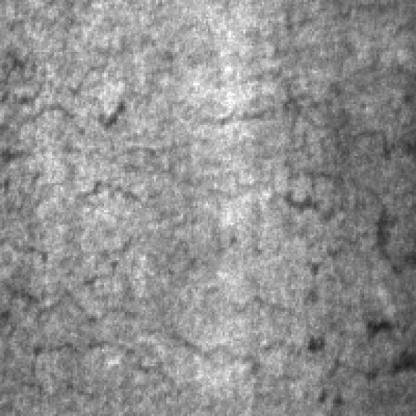crazing: (0, 35, 268, 203), (260, 58, 410, 268), (0, 221, 177, 396)
